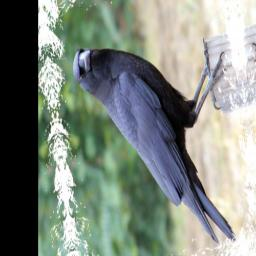Crow: (69, 1, 252, 256)
